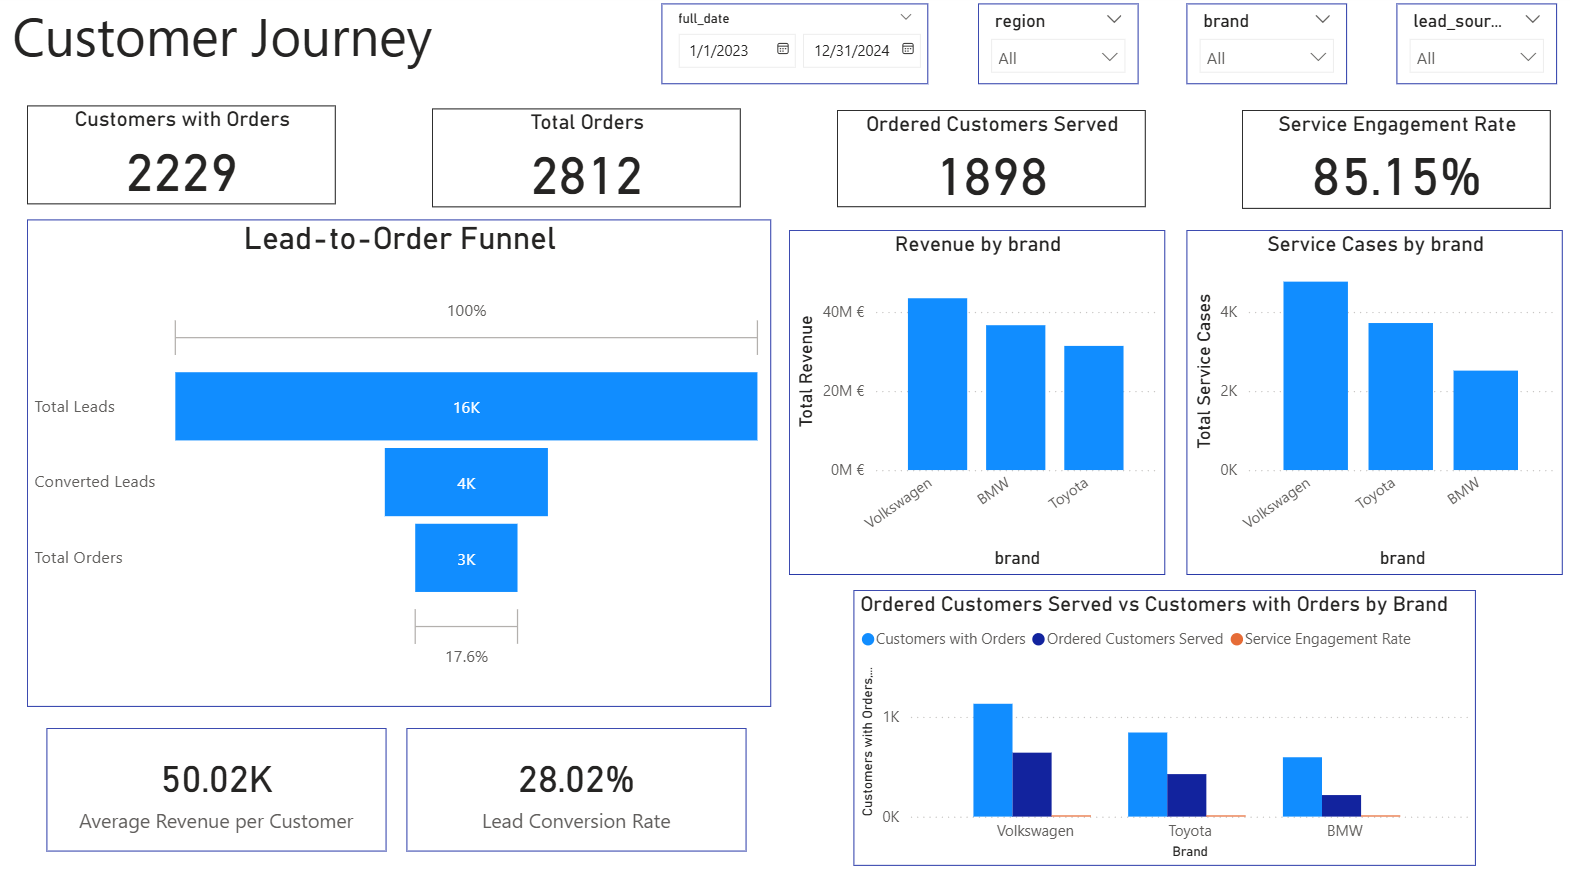

Layout of this report page (visuals, bound fields, positions):
{"tool":"powerbi","page":{"name":"Customer Journey","canvas":[1280,720],"ordinal":5},"visuals":[{"type":"textbox","box":[9.7,0,396,91.1],"z":0},{"type":"card","title":"Ordered Customers Served","fields":{"Values":["fct_sales_funnel.Ordered Customers Served"]},"box":[682.7,94.8,250.3,79],"z":1000},{"type":"card","title":"Total Orders","fields":{"Values":["raw_fact_orders.Total Orders"]},"box":[354.7,93.5,250.3,80.2],"z":2000},{"type":"card","title":"Service Engagement Rate","fields":{"Values":["fct_sales_funnel.Service Engagement Rate"]},"box":[1010.7,94.8,250.3,80.2],"z":3000},{"type":"card","title":"Customers with Orders","fields":{"Values":["fct_sales_funnel.Customers with Orders"]},"box":[26.7,91.1,250.3,80.2],"z":4000},{"type":"funnel","title":"Lead-to-Order Funnel","fields":{"Y":["fct_sales_funnel.Total Leads","fct_sales_funnel.Converted Leads","raw_fact_orders.Total Orders"]},"box":[26.7,183.4,602.5,394.8],"z":5000},{"type":"card","fields":{"Values":["fct_case_resolution.Average Revenue per Customer"]},"box":[42.5,595.3,275,100],"z":6000},{"type":"card","fields":{"Values":["fct_sales_funnel.Lead to Opportunity Rate"]},"box":[334.1,595.3,275,100],"z":7000},{"type":"clusteredColumnChart","title":"Revenue by brand","fields":{"Category":["raw_dim_vehicle.brand"],"Y":["raw_fact_orders.Total Revenue"]},"box":[643.9,191.9,304.9,279.4],"z":8000},{"type":"clusteredColumnChart","title":"Service Cases by brand","fields":{"Category":["raw_dim_vehicle.brand"],"Y":["fct_case_resolution.Total Service Cases"]},"box":[965.8,191.9,304.9,279.4],"z":9000},{"type":"slicer","fields":{"Values":["raw_dim_date.full_date"]},"box":[540.6,8.5,216.2,65.6],"z":10000},{"type":"slicer","fields":{"Values":["raw_dim_dealer.region"]},"box":[796.5,8.5,130,65.6],"z":11000},{"type":"slicer","fields":{"Values":["raw_dim_vehicle.brand"]},"box":[966.2,8.5,130,65.6],"z":12000},{"type":"slicer","fields":{"Values":["fct_sales_funnel.lead_source"]},"box":[1135.9,8.5,130,65.6],"z":13000},{"type":"clusteredColumnChart","title":"Ordered Customers Served vs Customers with Orders by Brand","fields":{"Category":["raw_dim_vehicle.brand"],"Y":["fct_sales_funnel.Customers with Orders","fct_sales_funnel.Ordered Customers Served","fct_sales_funnel.Service Engagement Rate"]},"box":[696.1,483.5,504.1,223.5],"z":14000}]}

Visuals, with their boxes in screenshot pixels (x1, y1, x2, y2), scaled from the page's 1280x720 canvas onto the 1570x880 screenshot:
textbox: l=12, t=0, r=498, b=111
"Ordered Customers Served" card: l=837, t=116, r=1144, b=212
"Total Orders" card: l=435, t=114, r=742, b=212
"Service Engagement Rate" card: l=1240, t=116, r=1547, b=214
"Customers with Orders" card: l=33, t=111, r=340, b=209
"Lead-to-Order Funnel" funnel: l=33, t=224, r=772, b=707
card - fct_case_resolution.Average Revenue per Customer: l=52, t=728, r=389, b=850
card - fct_sales_funnel.Lead to Opportunity Rate: l=410, t=728, r=747, b=850
"Revenue by brand" clusteredColumnChart: l=790, t=235, r=1164, b=576
"Service Cases by brand" clusteredColumnChart: l=1185, t=235, r=1559, b=576
slicer - raw_dim_date.full_date: l=663, t=10, r=928, b=91
slicer - raw_dim_dealer.region: l=977, t=10, r=1136, b=91
slicer - raw_dim_vehicle.brand: l=1185, t=10, r=1345, b=91
slicer - fct_sales_funnel.lead_source: l=1393, t=10, r=1553, b=91
"Ordered Customers Served vs Customers with Orders by Brand" clusteredColumnChart: l=854, t=591, r=1472, b=864
